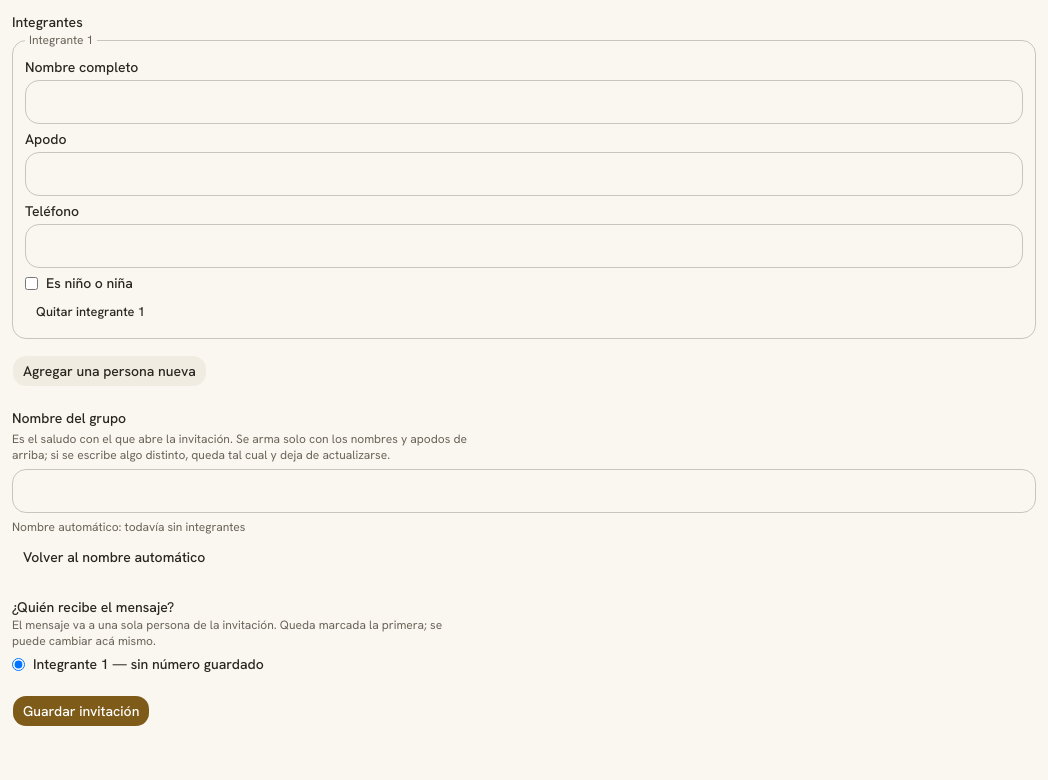
InvitationForm's group-name override › returns the name to the live derived value when it is reset
Step 1. Type "Luis Guzmán" into the field labelled "Nombre completo" → coordinates (524, 102), box [25,80,1023,124]
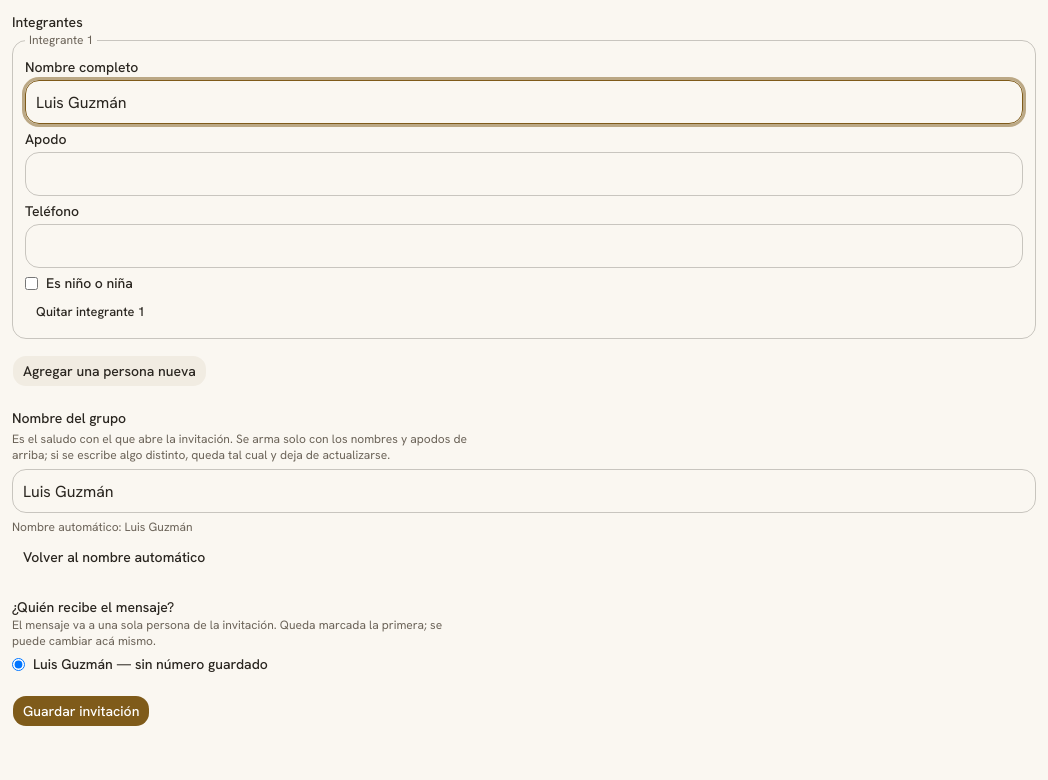
Step 2. Replace the text in the field labelled "Nombre del grupo" with "Los Guzmán" → coordinates (524, 491), box [12,469,1036,513]
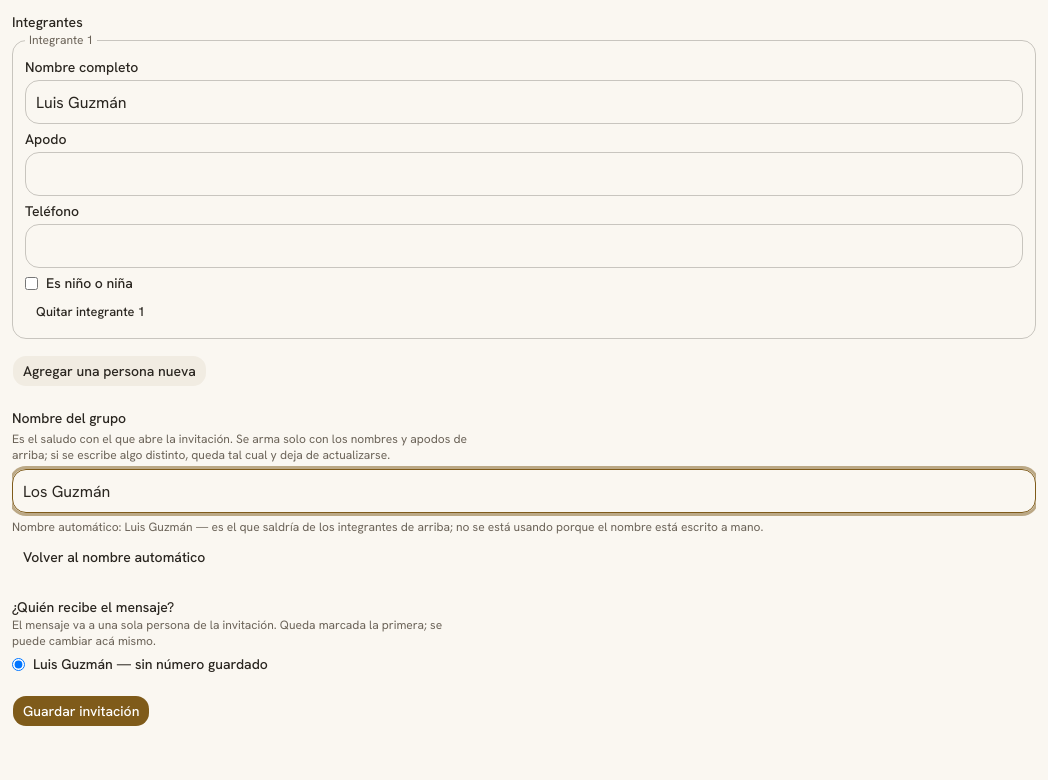
Step 3. Click the button "Volver al nombre automático" → coordinates (114, 557), box [12,541,216,573]
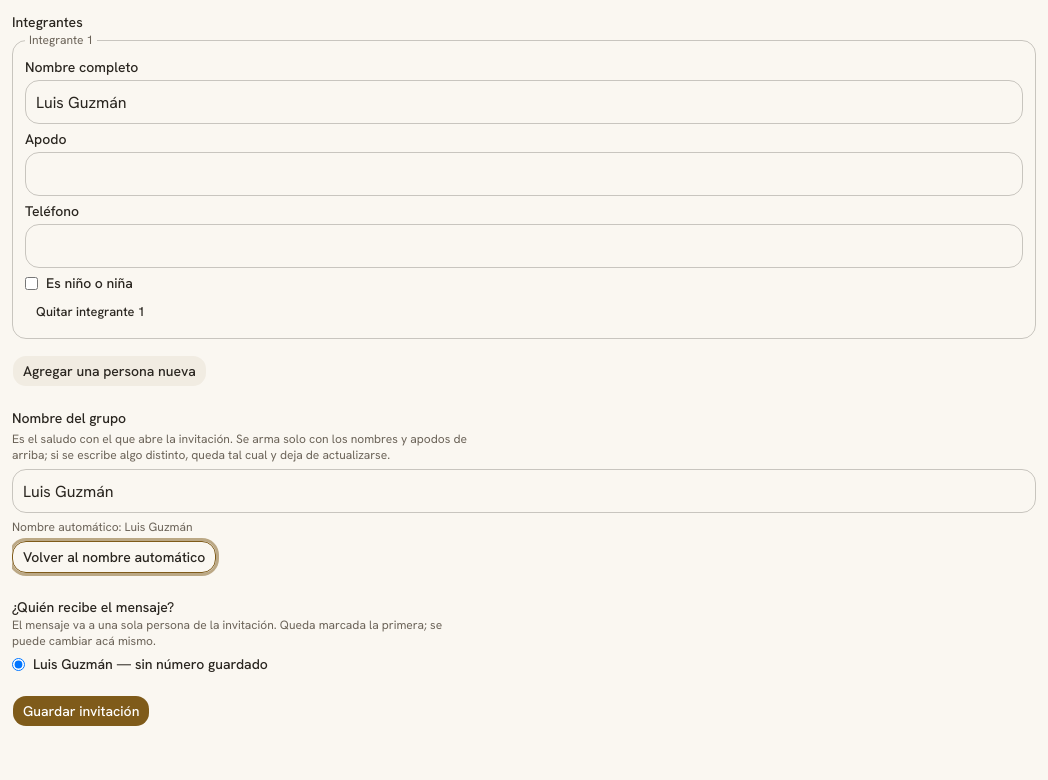
expect the element with test id "invitation-greeting-source" holds "derived": met, box [12,411,1036,573]
expect the field labelled "Nombre del grupo" holds "Luis Guzmán": met, box [12,469,1036,513]
